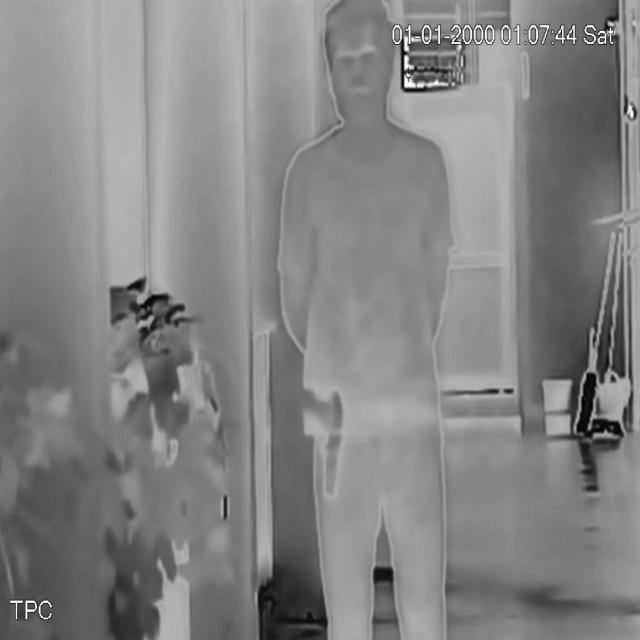Weapon: (294, 372, 356, 507)
